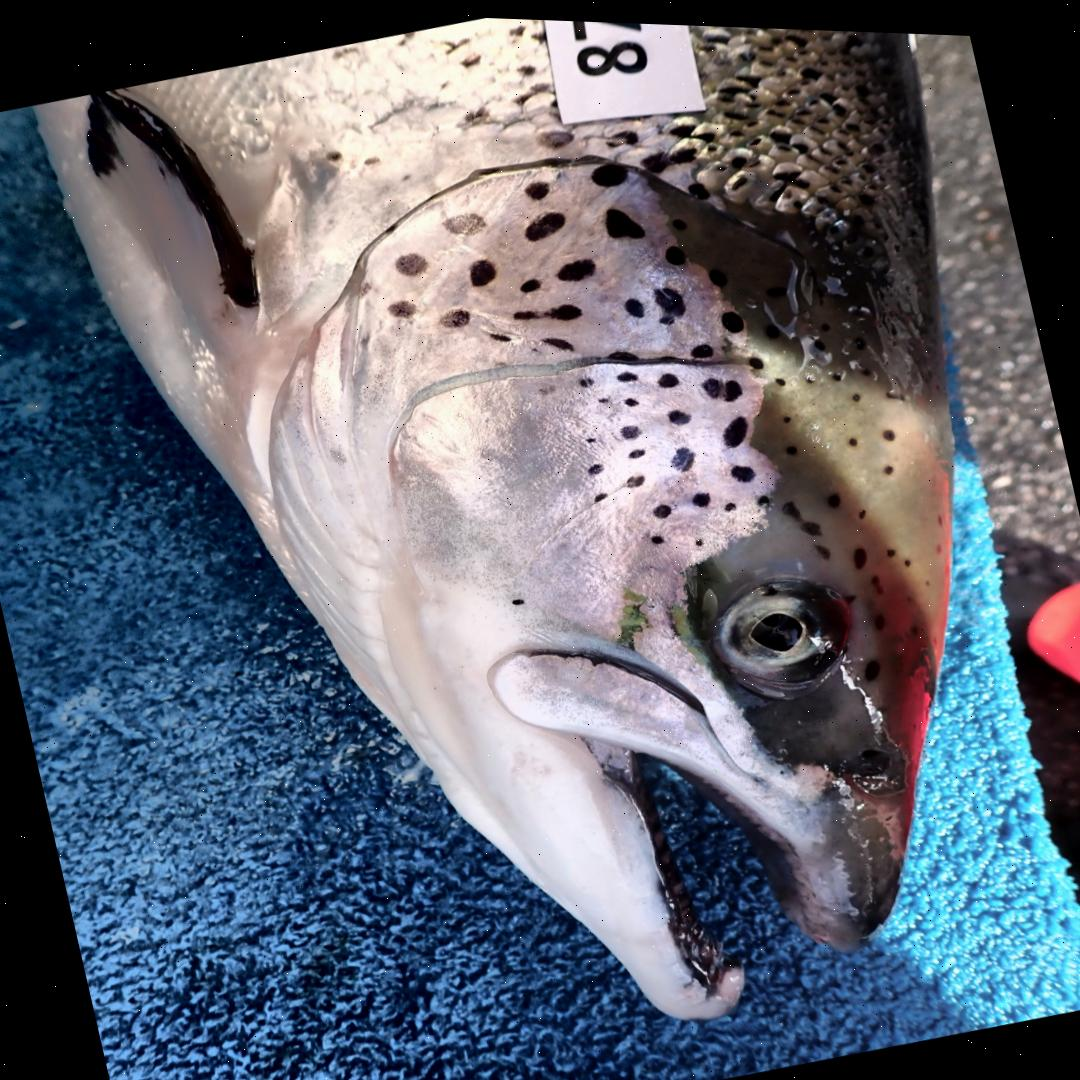spot: (524, 206, 565, 236), (603, 203, 644, 233), (652, 281, 685, 318), (442, 208, 486, 231), (700, 371, 742, 395), (556, 253, 596, 276), (590, 157, 627, 181), (722, 409, 748, 440), (395, 248, 428, 272), (468, 254, 495, 282), (438, 304, 470, 324), (670, 440, 695, 465), (545, 298, 580, 315), (719, 304, 744, 326), (388, 296, 415, 314), (525, 176, 549, 195), (663, 239, 685, 259), (730, 458, 755, 475), (624, 292, 645, 311), (543, 332, 573, 345), (669, 403, 692, 419), (689, 336, 712, 352), (690, 485, 711, 501), (519, 273, 541, 288), (657, 366, 679, 381), (607, 344, 637, 355), (620, 420, 642, 434), (513, 304, 537, 315), (652, 498, 670, 512), (617, 366, 638, 376), (627, 470, 644, 482), (627, 442, 644, 453), (588, 458, 603, 470), (490, 328, 511, 336), (749, 350, 763, 362), (579, 372, 594, 382), (649, 529, 664, 539), (623, 392, 638, 401), (724, 495, 736, 505), (595, 487, 608, 496), (757, 489, 770, 498), (511, 593, 523, 601), (585, 432, 595, 437), (598, 392, 608, 397), (695, 533, 703, 539)
